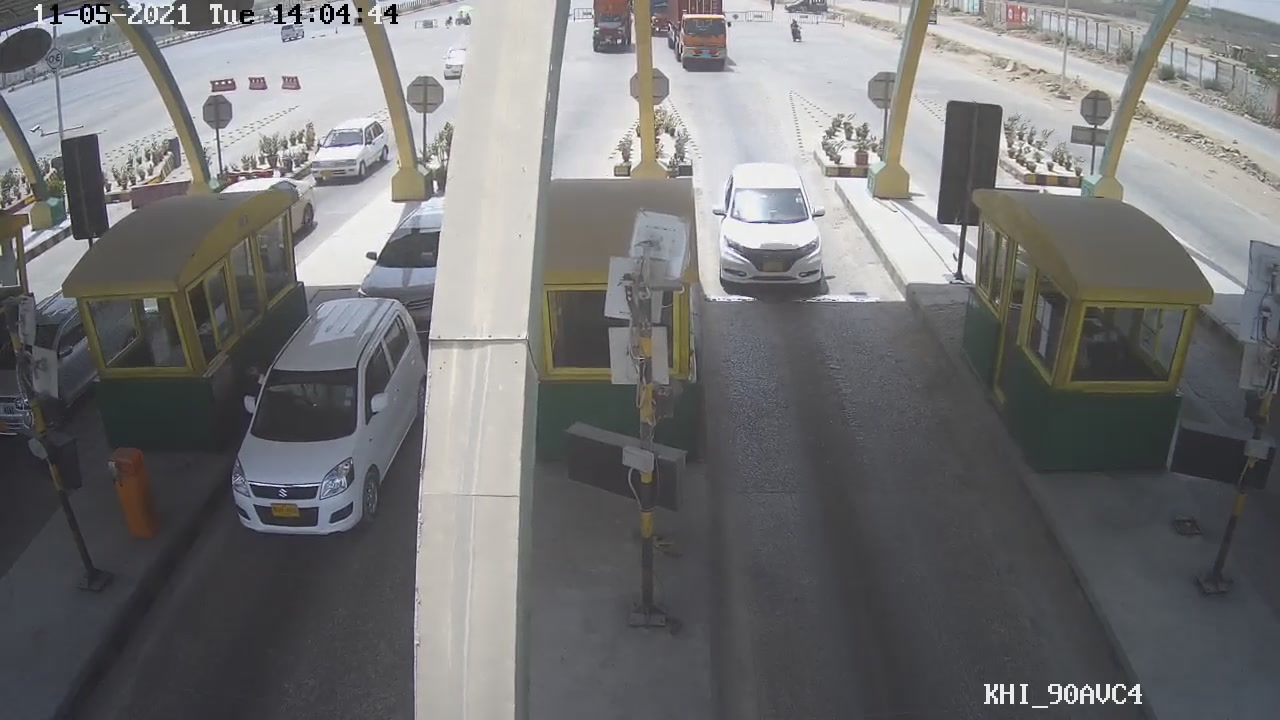F1: (704, 155, 836, 307)
